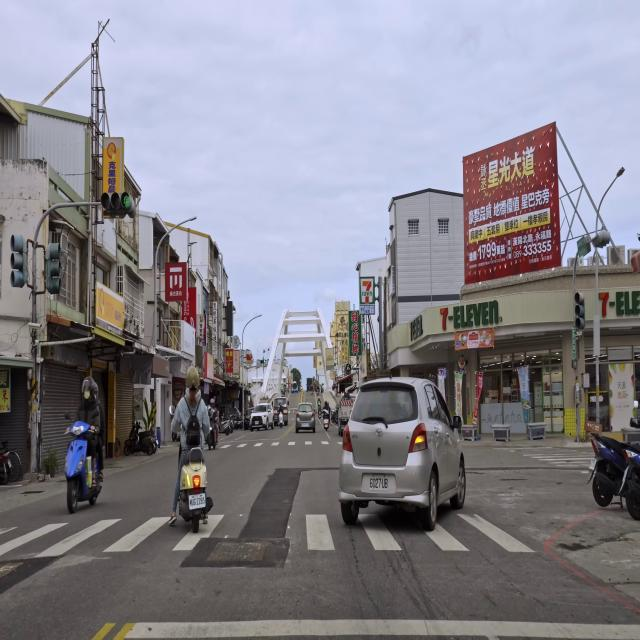green light: (100, 192, 130, 210)
